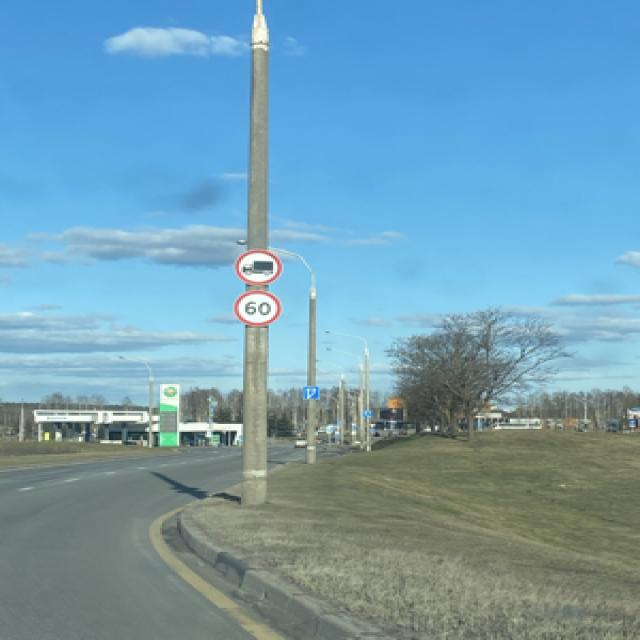speedlimit: (230, 291, 280, 325)
